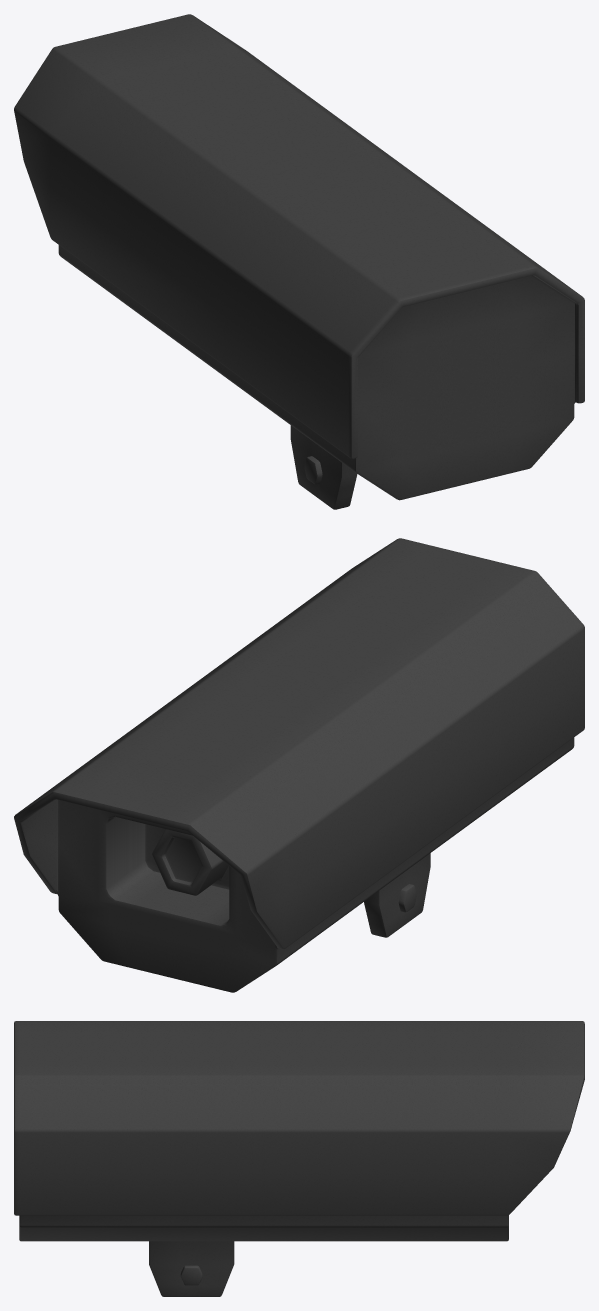
File: camera_1.gltf
3 views of the same model, one above another, from view 1: azimuth 30°, elevation 25°; view 2: azimuth 150°, elevation 25°; view 3: azimuth 270°, elevation 25° (orthographic). The views are drawn at different scales.
Parts seen in each view (by area): view 1: camera_1; view 2: camera_1; view 3: camera_1.
Boxes of the visible parts, x1,y1,x2,y2 form: camera_1: (14,14,584,509); camera_1: (14,538,584,992); camera_1: (14,1021,584,1296).
Size of the model in its own units: 0.1235 by 0.1419 by 0.3172.
1 material, 1 textured.
